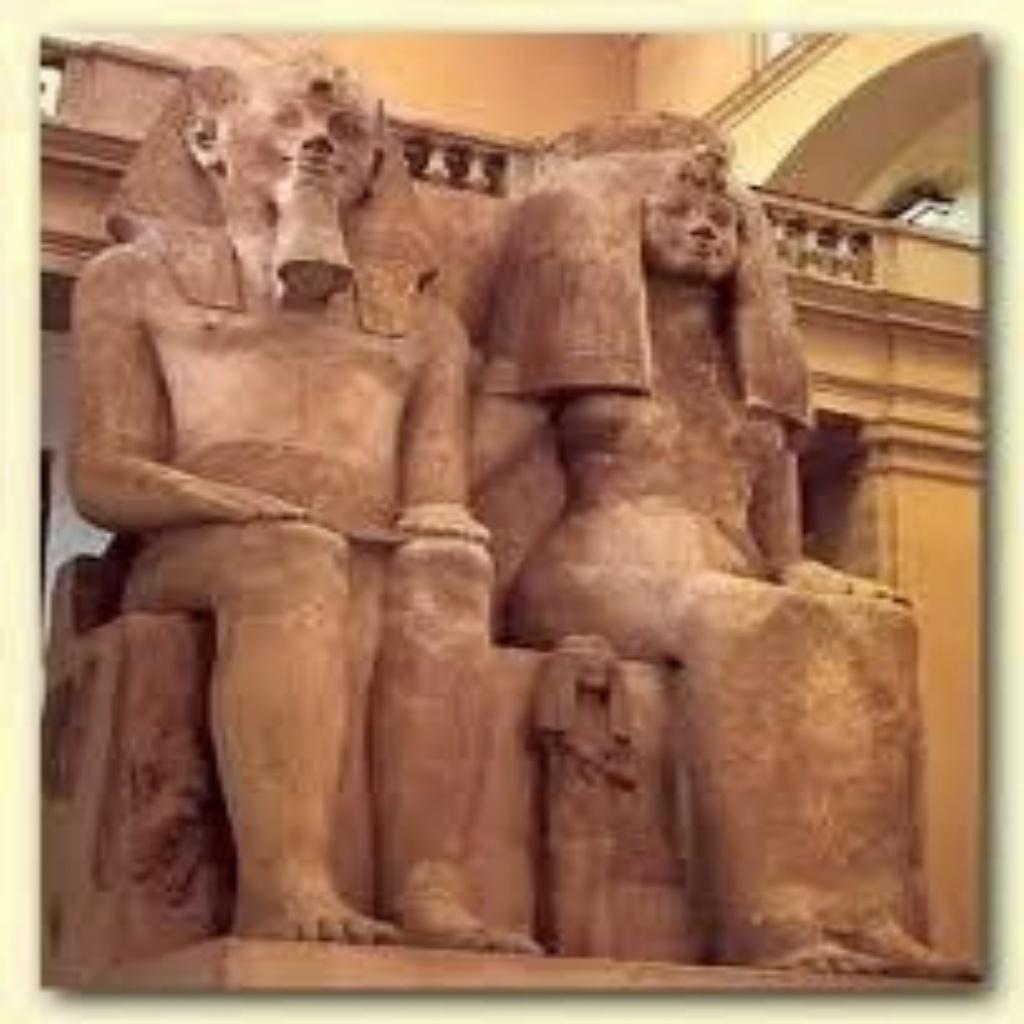Amenhotep III and Tiye: (66, 50, 928, 950)
